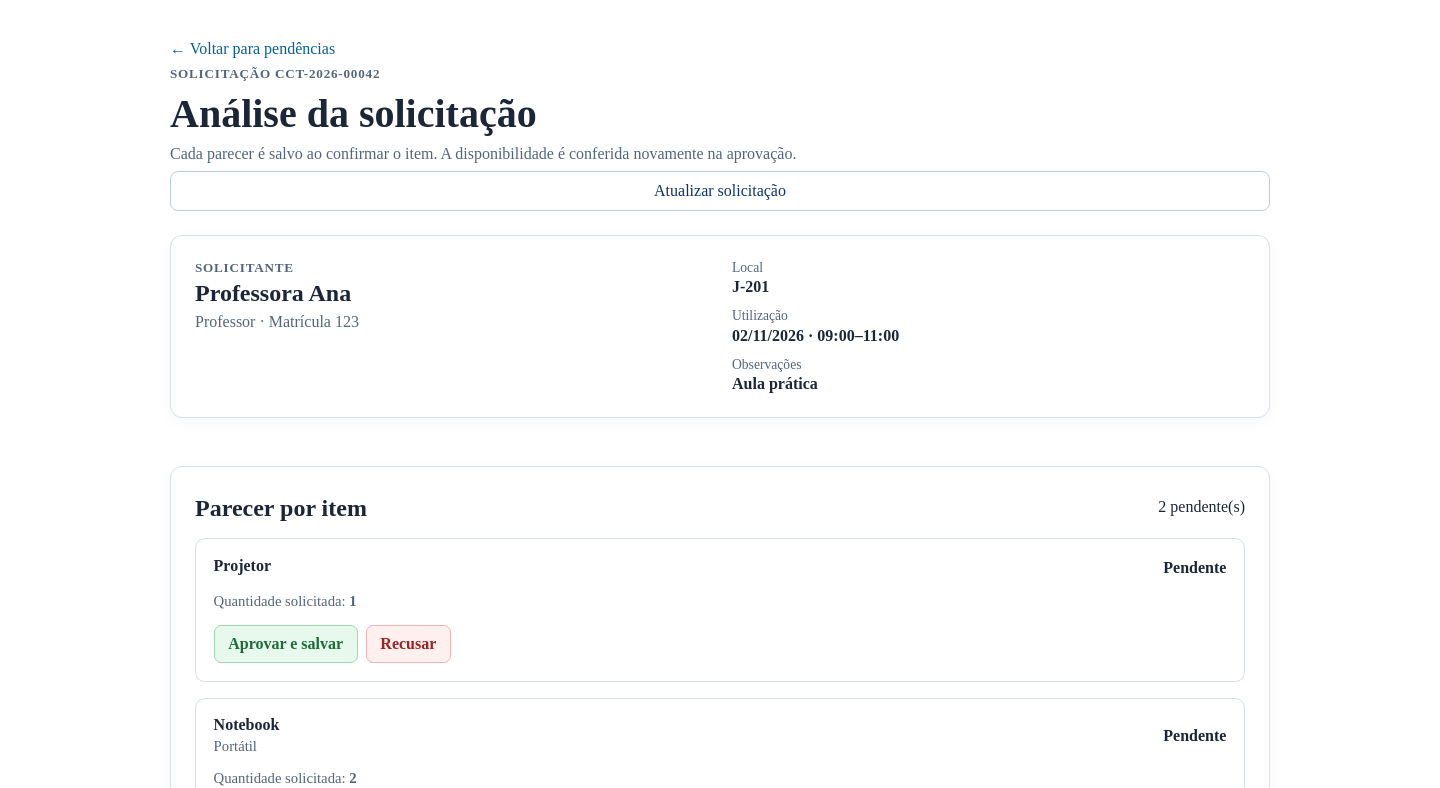
Scenario: Análise e gravação por item › salva aprovação, bloqueia envio duplo e mantém o outro item pendente
What coordinates should you click on to do the following:
click the button "Aprovar e salvar" below "Projetor"
I would click on:
 (286, 644)
Its box is [214,624,358,663].
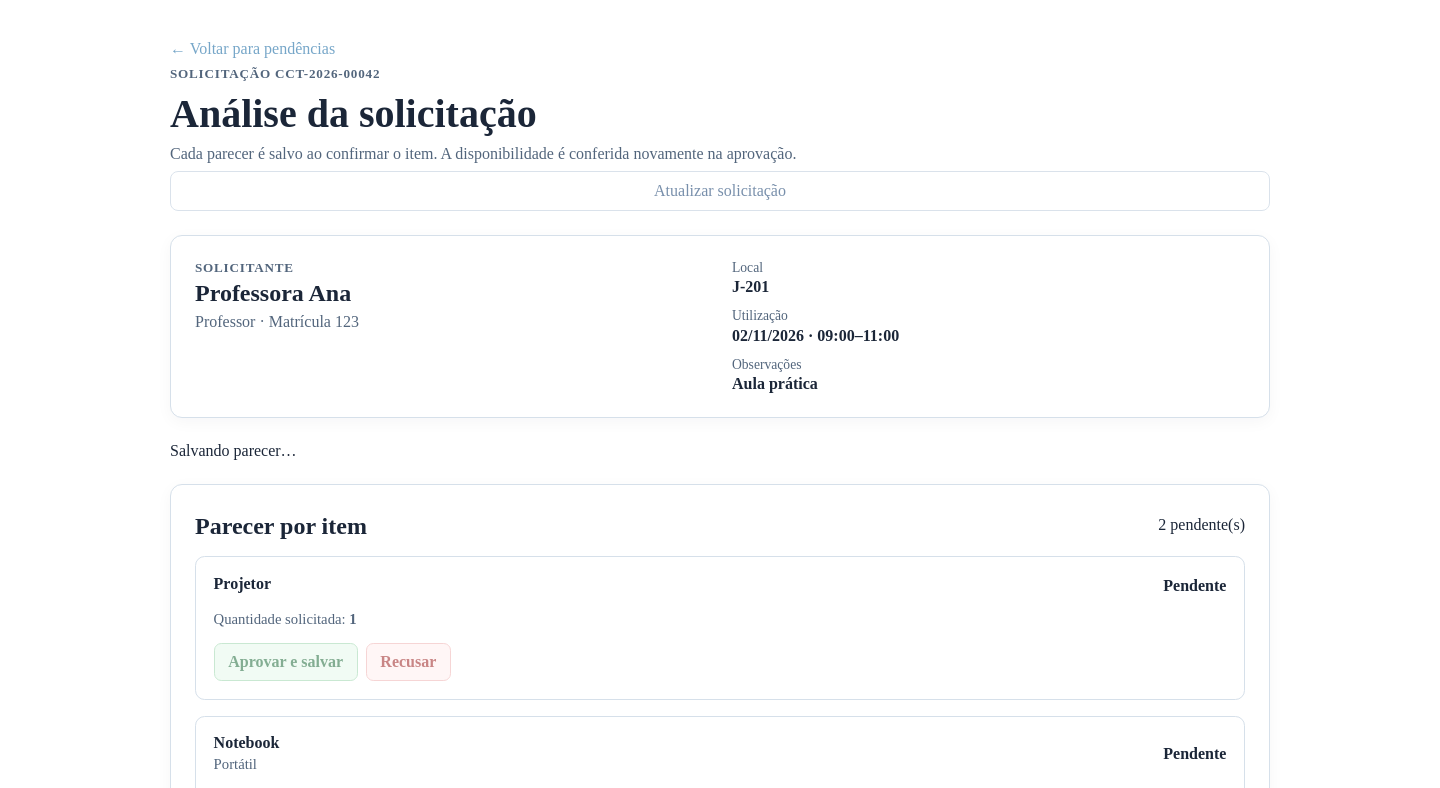
What coordinates should you click on to do the following:
click the button "Aprovar e salvar"
I would click on:
 (286, 662)
Its box is [214,642,358,681].
(page scrolled)
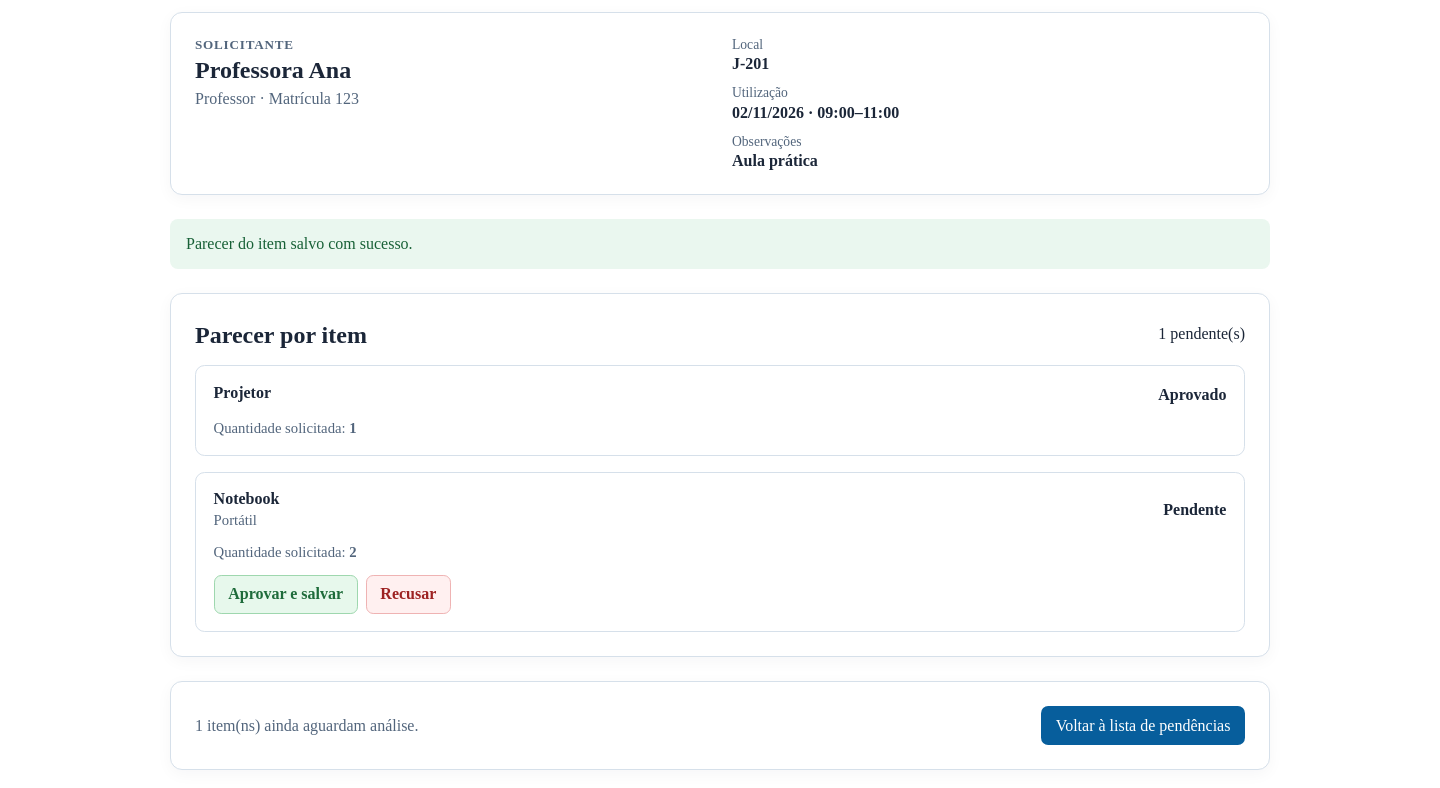
Now the text "Parecer do item salvo com sucesso." is shown, box [170,219,1270,269]
Now the text "Aprovado" is shown, box [1158,386,1226,404]
Now the text "1 item(ns) ainda aguardam análise." is shown, box [195,716,418,734]
